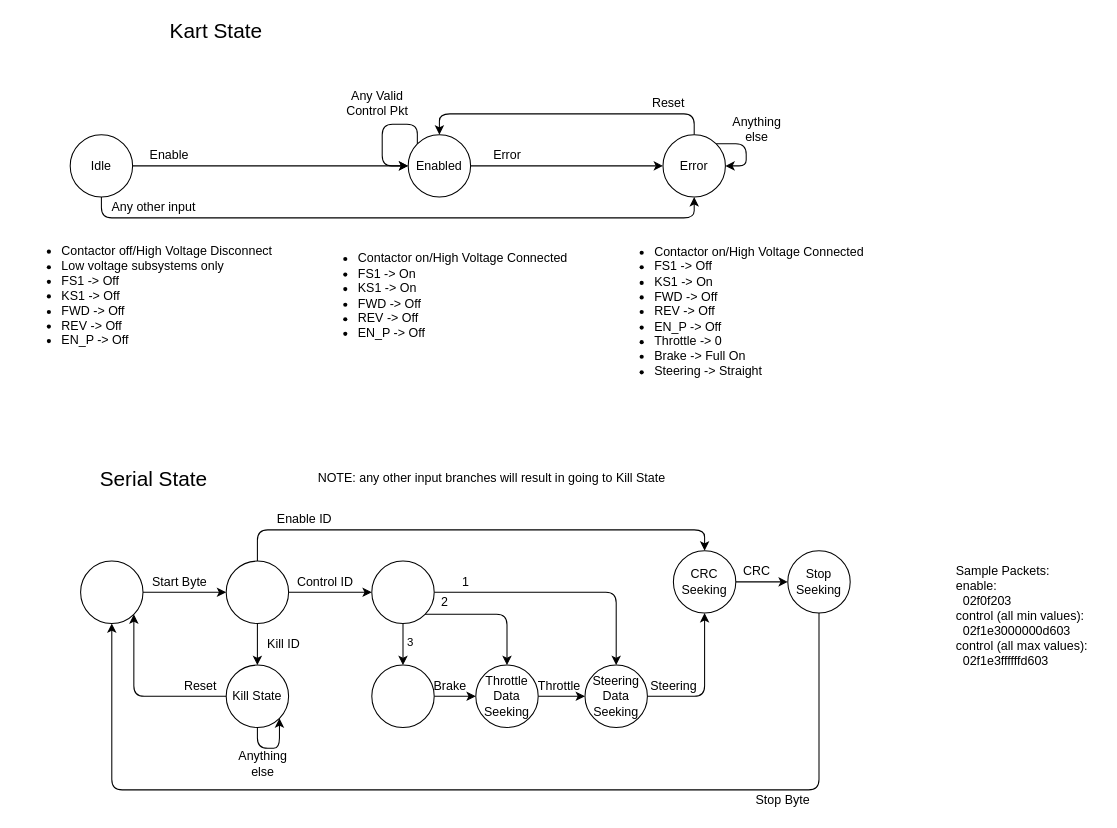
Image size: 1117x828. Some labels were removed from this diagram. Here are the shapes that lost their labels. From the top down, the centre of each, then its label:
At [111,591]: "Default".
At [257,591]: "ID Seeking".
At [402,591]: "Data Length Seeking".
At [402,695]: "Brake Data Seeking".
